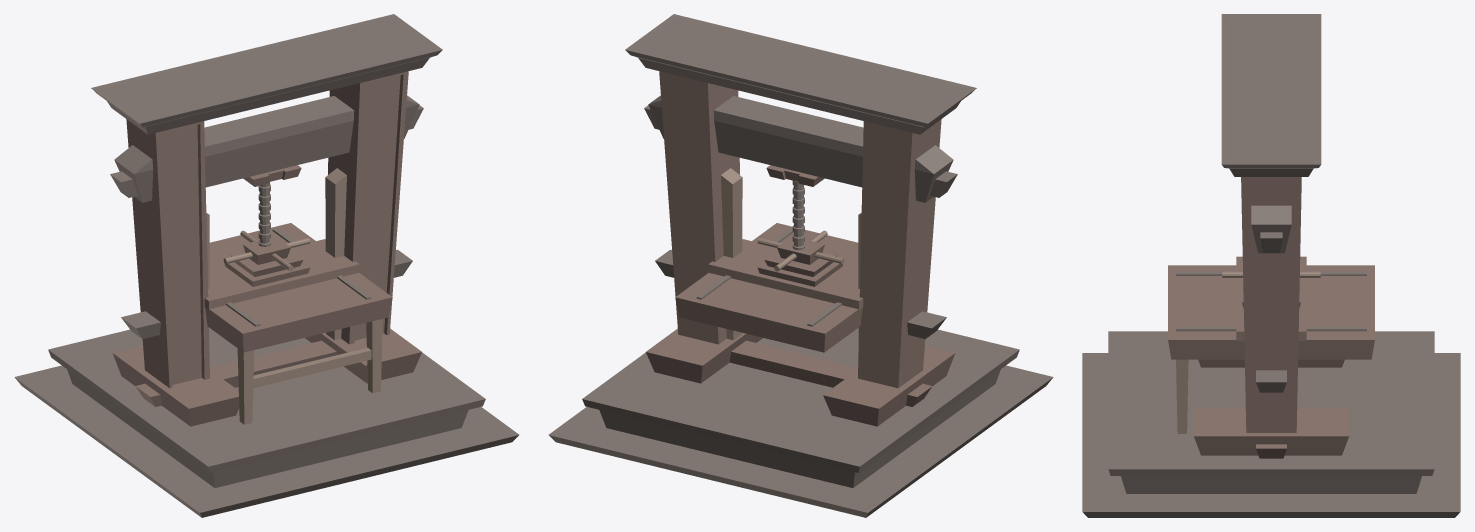
Rendered from Imprenta.fbx.
The picture shows the model from 3 angles, left to right: view 1: azimuth 30°, elevation 25°; view 2: azimuth 150°, elevation 25°; view 3: azimuth 270°, elevation 25°; orthographic projection.
Visible parts, largest first — view 1: pCube1, pCube7, pCube6, pCube2, polySurface2, pCube17, pCube8, pCube3, pCube9, pCube13, pCube16, pCube10 (+9 smaller); view 2: pCube1, pCube7, pCube6, pCube2, polySurface2, pCube17, pCube8, pCube3, pCube9, pCube16, pCube13, pCube10 (+6 smaller); view 3: pCube1, pCube2, pCube7, pCube8, polySurface2, pCube13, pCube17, pCube9, pCube15, pCube3, pCube12, pCube24 (+2 smaller).
Boxes of the visible parts, left/top/right/bottom form: pCube1: left=48, top=328, right=485, bottom=487; pCube7: left=91, top=14, right=442, bottom=134; pCube6: left=126, top=119, right=209, bottom=388; pCube2: left=14, top=365, right=519, bottom=517; polySurface2: left=328, top=71, right=408, bottom=344; pCube17: left=114, top=95, right=419, bottom=202; pCube8: left=205, top=223, right=392, bottom=352; pCube3: left=112, top=345, right=239, bottom=426; pCube9: left=204, top=239, right=359, bottom=309; pCube13: left=305, top=328, right=421, bottom=383; pCube16: left=135, top=340, right=337, bottom=406; pCube10: left=325, top=168, right=346, bottom=340; pCube1: left=582, top=328, right=1019, bottom=487; pCube7: left=625, top=14, right=976, bottom=134; pCube6: left=858, top=119, right=941, bottom=388; pCube2: left=548, top=365, right=1053, bottom=517; polySurface2: left=659, top=71, right=739, bottom=344; pCube17: left=648, top=95, right=953, bottom=202; pCube8: left=675, top=223, right=862, bottom=352; pCube3: left=823, top=345, right=955, bottom=426; pCube9: left=708, top=239, right=863, bottom=309; pCube16: left=729, top=340, right=932, bottom=406; pCube13: left=646, top=328, right=762, bottom=383; pCube10: left=721, top=168, right=742, bottom=340; pCube1: left=1108, top=331, right=1434, bottom=493; pCube2: left=1082, top=353, right=1460, bottom=517; pCube7: left=1221, top=14, right=1321, bottom=176; pCube8: left=1168, top=265, right=1374, bottom=359; polySurface2: left=1241, top=177, right=1301, bottom=432; pCube13: left=1193, top=408, right=1349, bottom=455; pCube17: left=1251, top=205, right=1291, bottom=253; pCube9: left=1236, top=256, right=1306, bottom=340; pCube15: left=1176, top=359, right=1188, bottom=433; pCube3: left=1198, top=359, right=1344, bottom=367; pCube12: left=1256, top=370, right=1286, bottom=392; pCube24: left=1176, top=327, right=1366, bottom=331.
Bounding box in the file's own units: 8.2 × 8.46 × 8.25.
